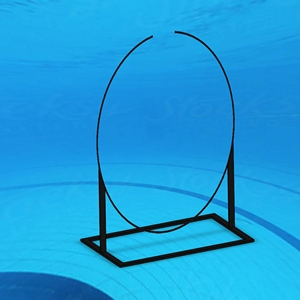circle: (79, 27, 252, 274)
